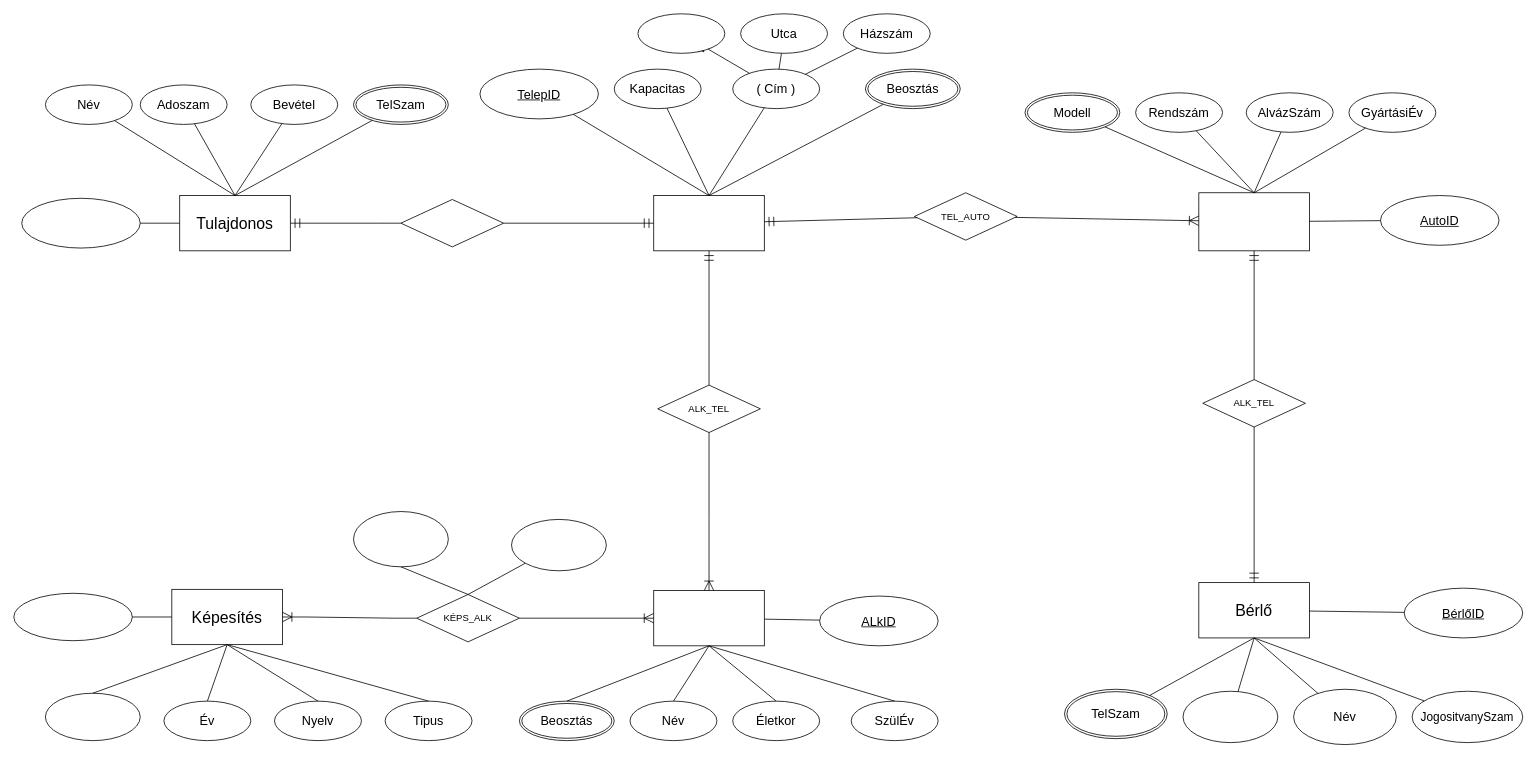
Some shapes in this 1537 by 763 pixel diagram are drawn without their labels. Here are the shapes that lost their labels. From the top down, the centre of each, then its label:
(x=681, y=33): Település
(x=80, y=223): TulID
(x=452, y=223): TUL_TEL
(x=708, y=223): Telep
(x=1253, y=221): Autok
(x=400, y=539): Bonusz_ID
(x=558, y=545): Extra juttatás
(x=72, y=616): KépesítésID
(x=708, y=618): Alkalmazottak
(x=92, y=716): Biz.szám
(x=1230, y=716): Email
